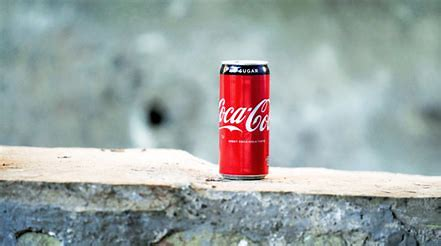Coke: (217, 59, 273, 182)
